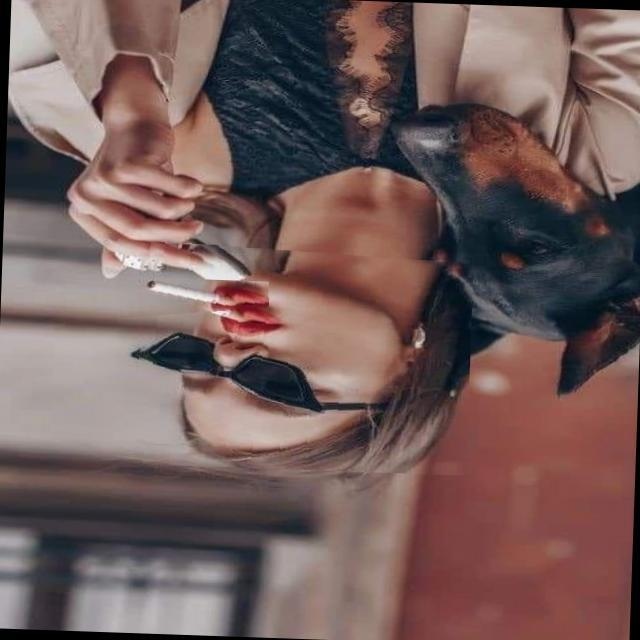cigarette: (114, 277, 269, 324)
